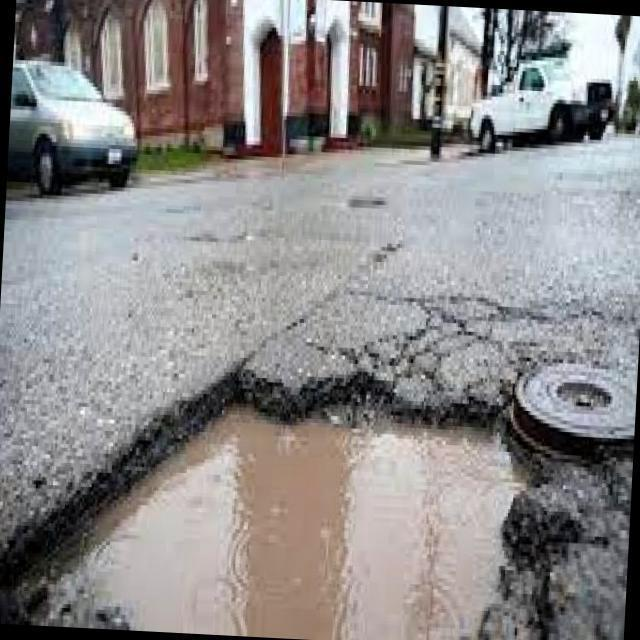pothole: (1, 362, 519, 640)
